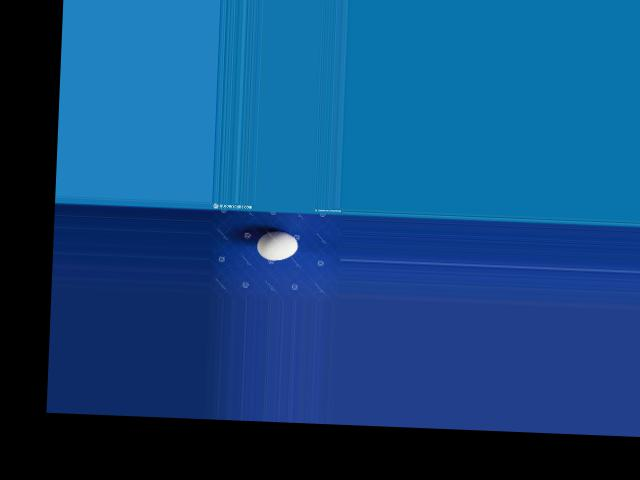egg: (256, 230, 299, 260)
